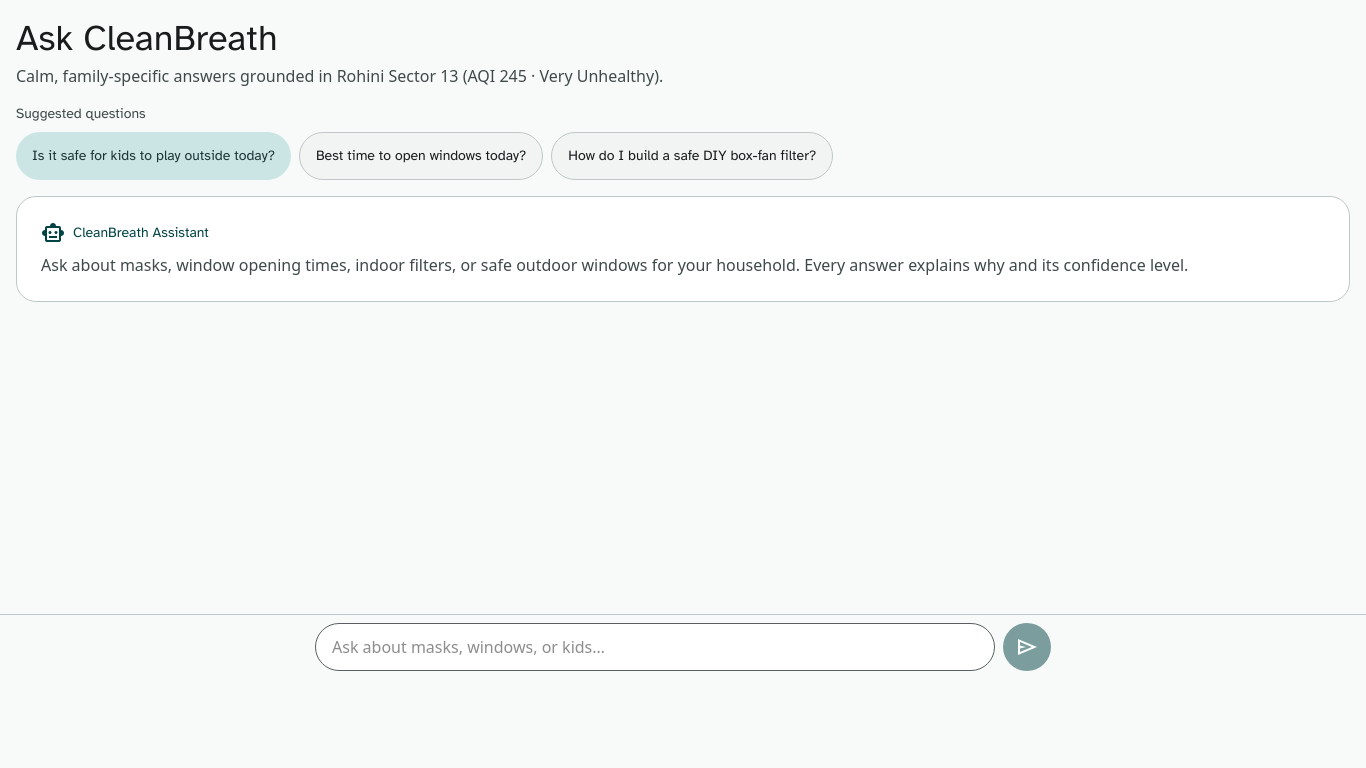
Test case: Frontend behavioral tests (Onboarding, Dashboard states, Chat SSE/error, i18n, focus & landmarks) › streams SSE chunks in ChatAssistant and renders accessible error alert when chat fails
Type "Best window time?" into the field with placeholder "Ask about masks, windows, or kids…" at (655, 647), box [315, 623, 995, 671]
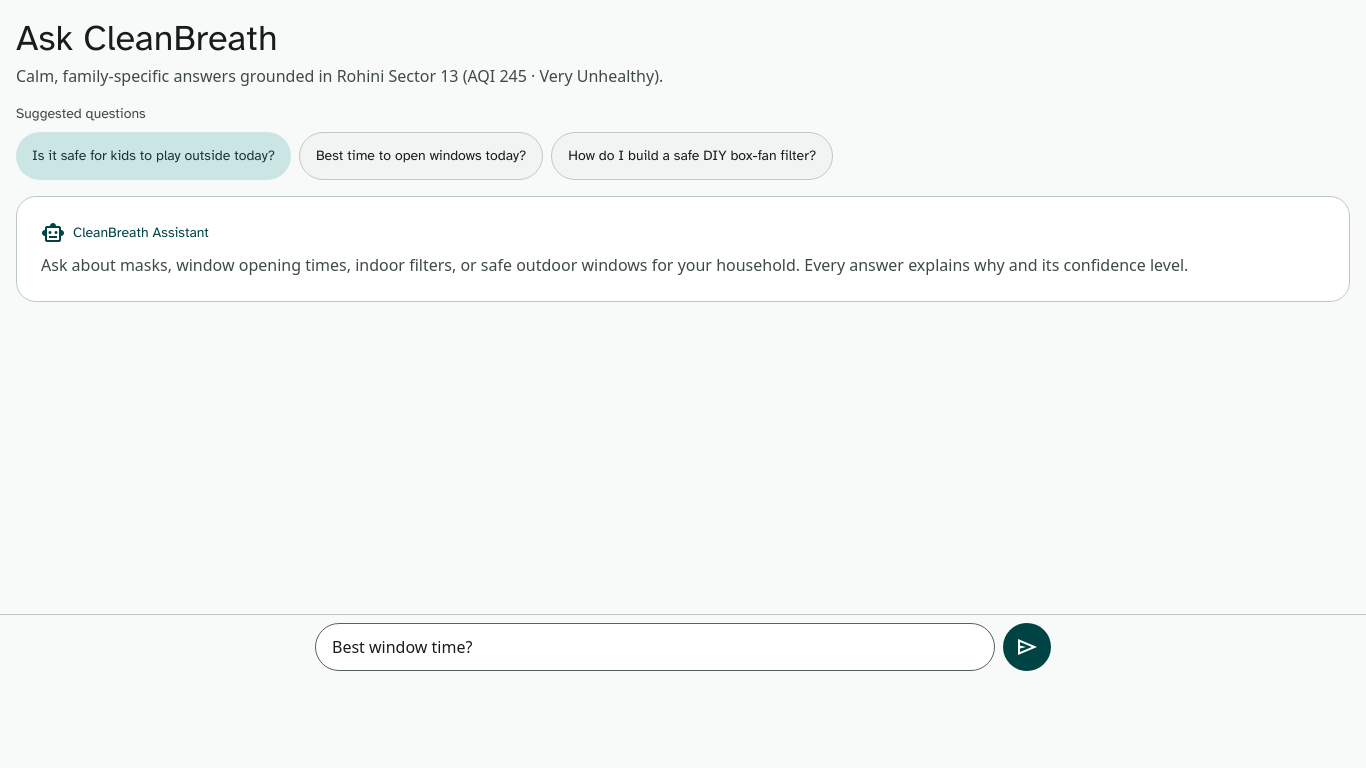
Click the button named "Send question" at (1027, 647), box [1003, 623, 1051, 671]
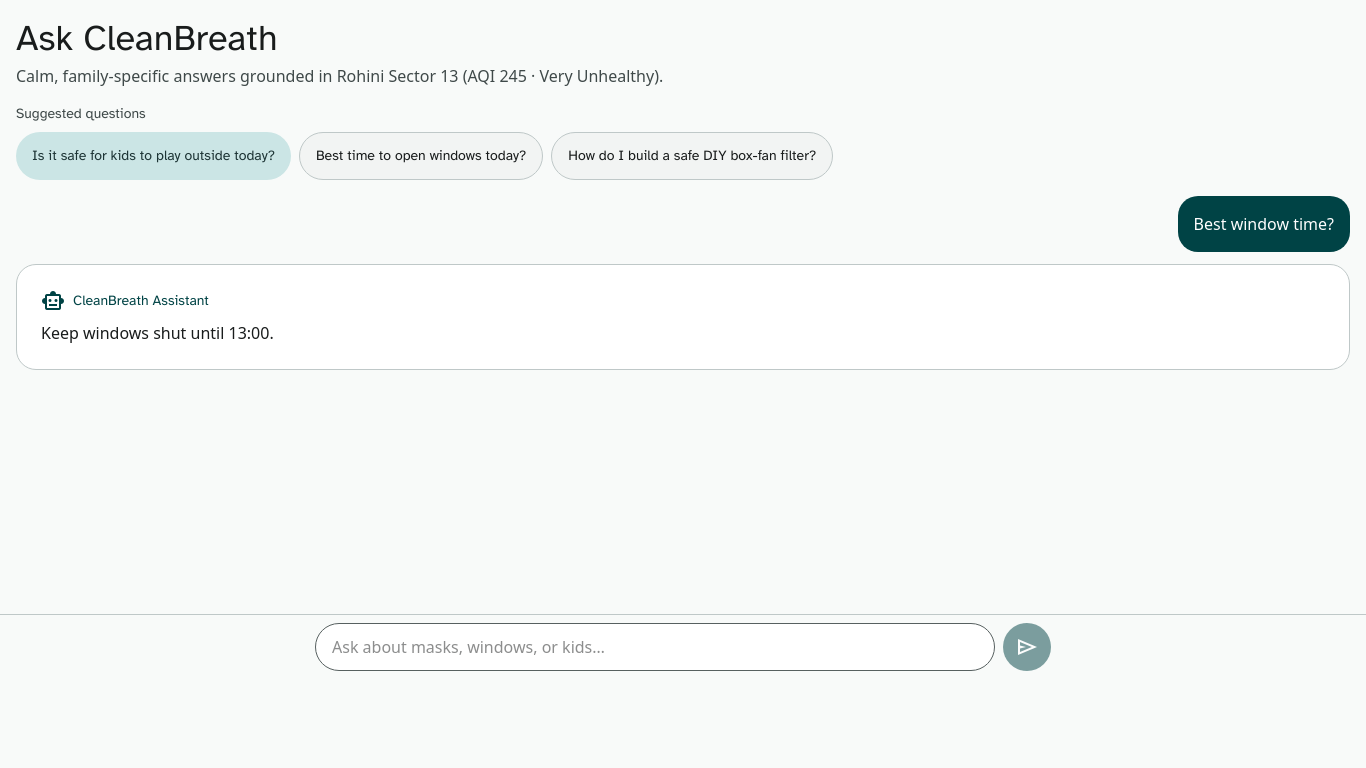
Expected: the text "Keep windows shut until 13:00." is shown, [41, 322, 274, 344]
Type "Follow up question?" into the field with placeholder "Ask about masks, windows, or kids…" at (655, 647), box [315, 623, 995, 671]
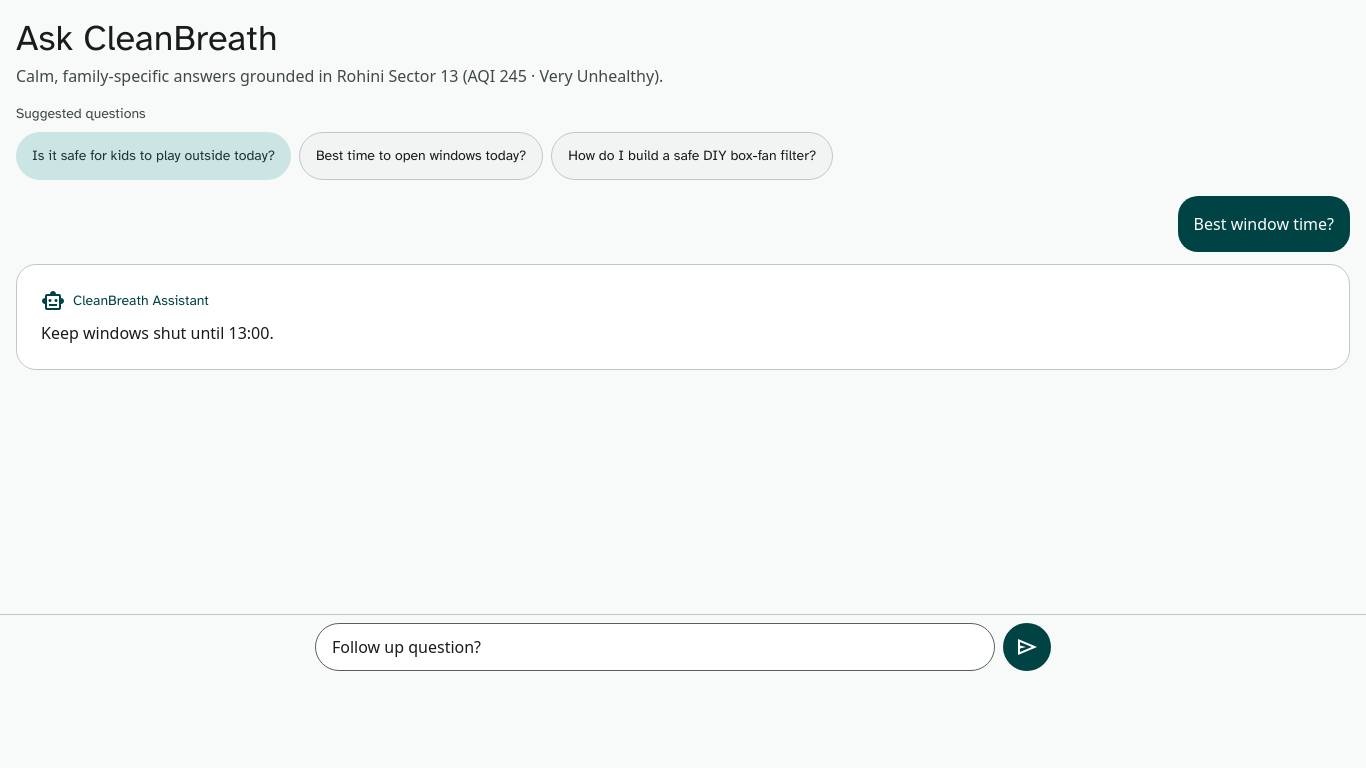
Click the button named "Send question" at (1027, 647), box [1003, 623, 1051, 671]
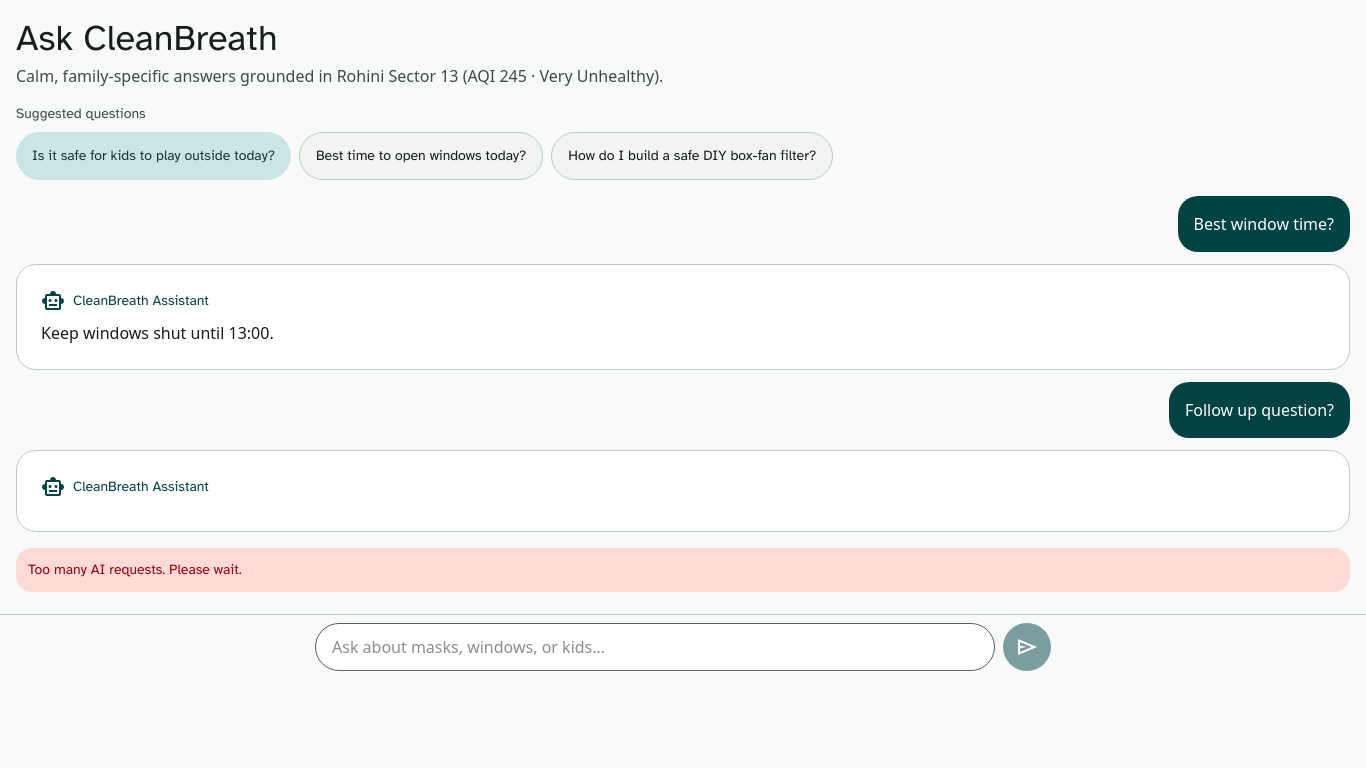
Expected: the message reads "Too many AI requests. Please wait.", [28, 561, 242, 578]
